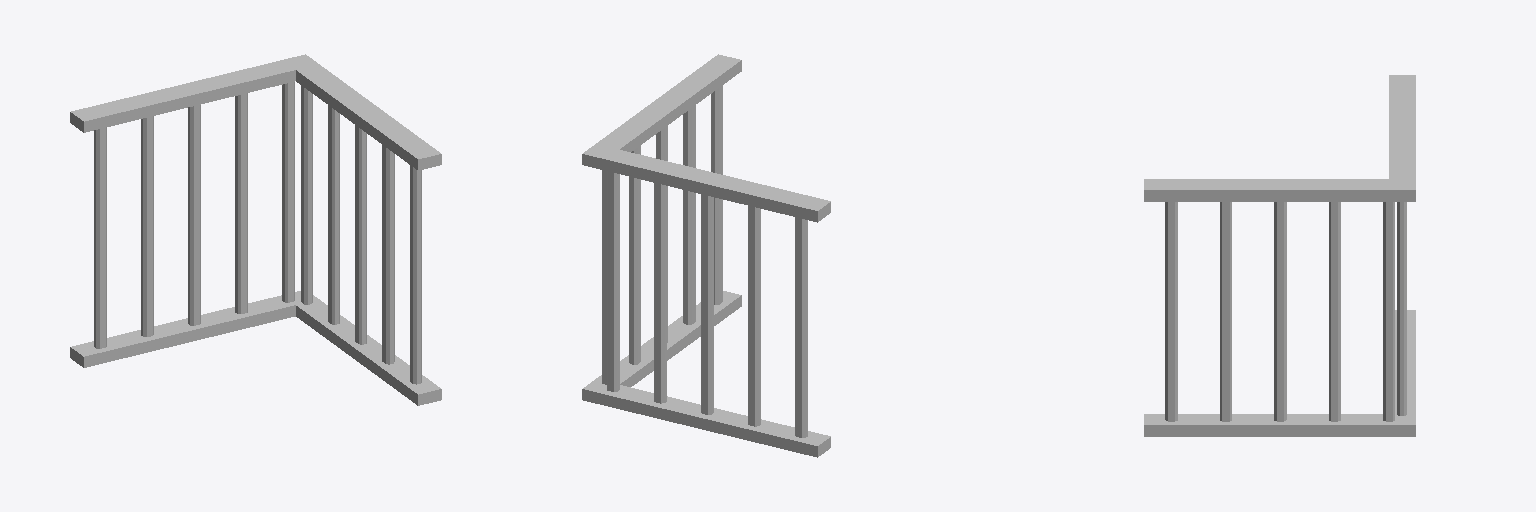
The model's file is ironbarcornerx-.obj.
The picture shows the model from 3 angles: view 1: azimuth 30°, elevation 25°; view 2: azimuth 150°, elevation 25°; view 3: azimuth 270°, elevation 25°; orthographic projection.
Parts seen in each view (by area): view 1: bedx+.001_bedx+.002; view 2: bedx+.001_bedx+.002; view 3: bedx+.001_bedx+.002.
Part boxes in pixels (x1,y1,x2,y2): bedx+.001_bedx+.002: (70,54,441,405); bedx+.001_bedx+.002: (582,54,830,457); bedx+.001_bedx+.002: (1144,75,1415,436).
Size of the model in its own units: 1 by 1 by 1.